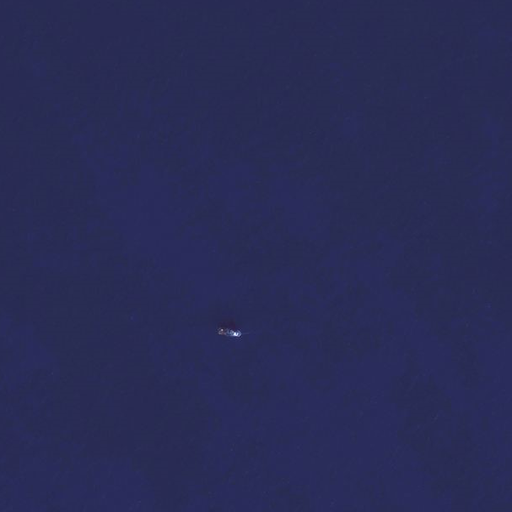ship: (214, 323, 243, 341)
